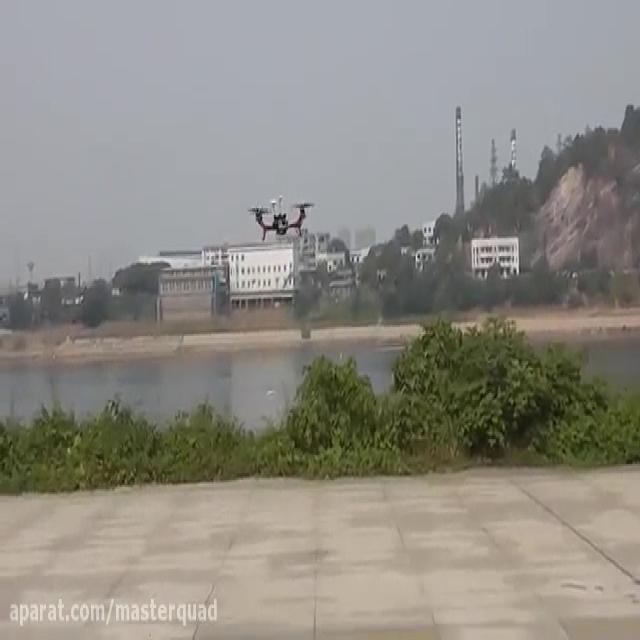drone: (245, 187, 317, 244)
